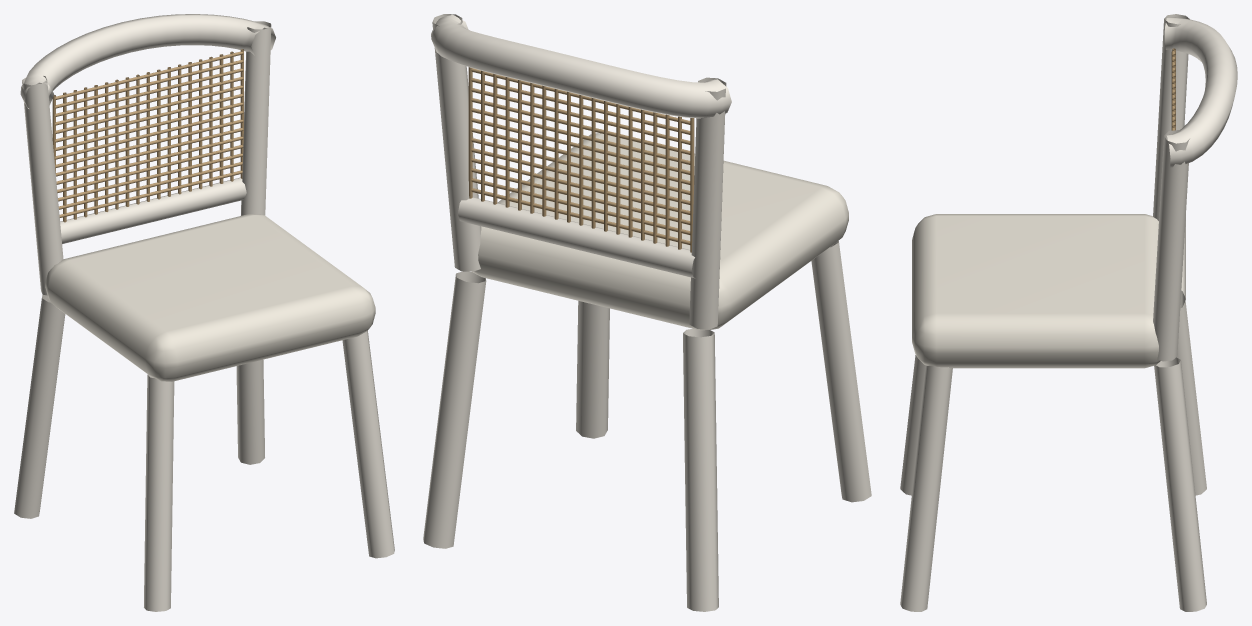
Rendered from wh-white-rattan-back-chair.glb.
The picture shows the model from 3 angles, left to right: view 1: azimuth 30°, elevation 25°; view 2: azimuth 150°, elevation 25°; view 3: azimuth 270°, elevation 25°; orthographic projection. The views are drawn at different scales.
Visible parts, largest first — view 1: Chair leg.072, Upholstered seat.022, Woven back vertical.038; view 2: Chair leg.072, Upholstered seat.022, Woven back vertical.038; view 3: Upholstered seat.022, Chair leg.072.
Part boxes in pixels (x1,y1,x2,y2): Chair leg.072: (14,14,394,611); Upholstered seat.022: (45,214,375,381); Woven back vertical.038: (52,49,243,222); Chair leg.072: (423,14,871,611); Upholstered seat.022: (472,133,848,330); Woven back vertical.038: (468,67,694,252); Upholstered seat.022: (912,214,1160,368); Chair leg.072: (900,14,1237,611).
Size of the model in its own units: 0.5 by 0.86 by 0.54.
